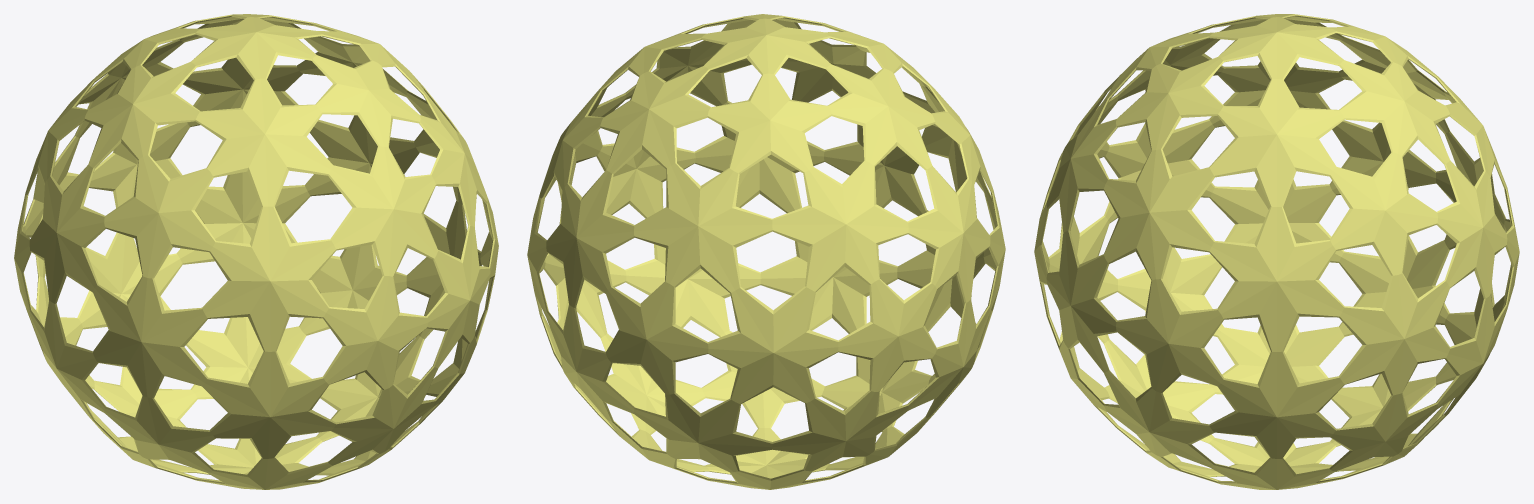
Rendered from Starball.fbx.
3 views of the same model, side by side, from view 1: azimuth 30°, elevation 25°; view 2: azimuth 150°, elevation 25°; view 3: azimuth 270°, elevation 25° (orthographic).
Parts seen in each view (by area): view 1: Icosphere; view 2: Icosphere; view 3: Icosphere.
Part boxes in pixels (box(x1,y1,x2,y2)): Icosphere: box(14, 14, 498, 489); Icosphere: box(527, 14, 1005, 489); Icosphere: box(1034, 14, 1519, 489).
Bounding box in the file's own units: 1.91 × 1.95 × 1.95.
